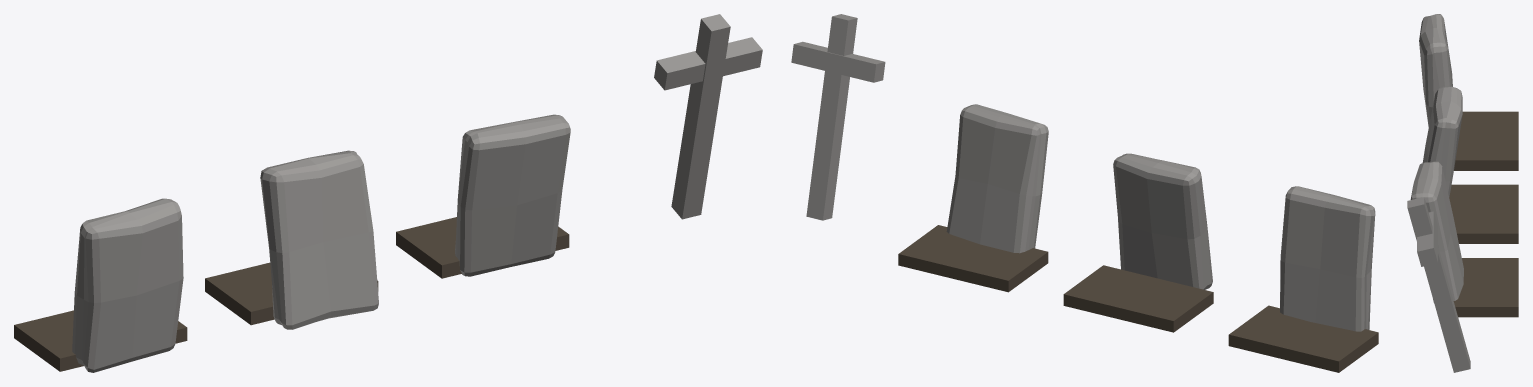
File: graves.glb
3 renders of one model, left to right at view 1: azimuth 30°, elevation 25°; view 2: azimuth 150°, elevation 25°; view 3: azimuth 270°, elevation 25°, orthographic. The views are drawn at different scales.
Parts seen in each view (by area): view 1: Cube.002, Cube, Cube.004, Cube.006, Cube.003, Cube.005, Cube.001, Cube.007; view 2: Cube.004, Cube, Cube.002, Cube.003, Cube.001, Cube.005, Cube.006, Cube.007; view 3: Cube.003, Cube.001, Cube.005, Cube.004, Cube.006, Cube.002, Cube, Cube.007.
Boxes of the visible parts, bbox=[...] form: Cube.002: bbox=[260, 150, 378, 329]; Cube: bbox=[72, 198, 183, 372]; Cube.004: bbox=[455, 114, 570, 276]; Cube.006: bbox=[671, 14, 730, 219]; Cube.003: bbox=[205, 262, 378, 325]; Cube.005: bbox=[396, 217, 569, 278]; Cube.001: bbox=[14, 310, 187, 371]; Cube.007: bbox=[654, 37, 762, 90]; Cube.004: bbox=[946, 104, 1048, 253]; Cube: bbox=[1280, 186, 1375, 331]; Cube.002: bbox=[1113, 153, 1212, 289]; Cube.003: bbox=[1063, 265, 1213, 332]; Cube.001: bbox=[1228, 305, 1378, 372]; Cube.005: bbox=[898, 225, 1048, 292]; Cube.006: bbox=[806, 14, 857, 220]; Cube.007: bbox=[791, 41, 885, 82]; Cube.003: bbox=[1449, 184, 1518, 243]; Cube.001: bbox=[1454, 111, 1518, 170]; Cube.005: bbox=[1453, 258, 1518, 317]; Cube.004: bbox=[1410, 161, 1463, 302]; Cube.006: bbox=[1407, 197, 1470, 372]; Cube.002: bbox=[1422, 86, 1462, 197]; Cube: bbox=[1419, 14, 1452, 127]; Cube.007: bbox=[1417, 211, 1437, 266].
Bounding box in the file's own units: 4.3 × 1.29 × 0.7689.
